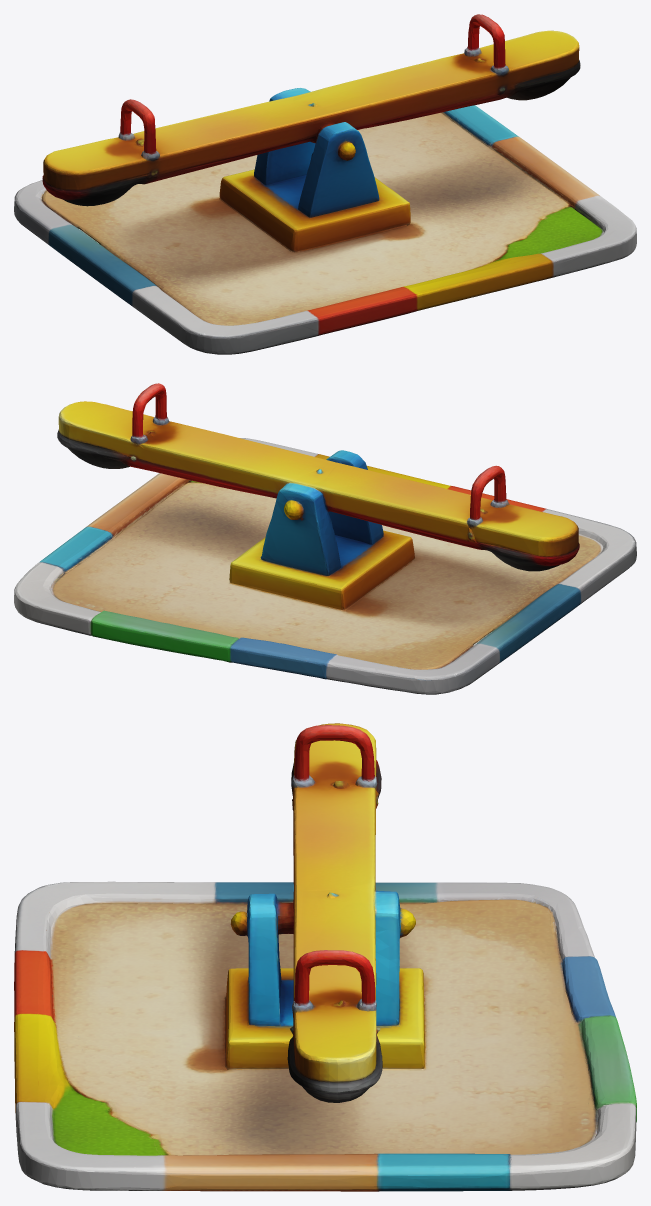
File: seesaw.glb
3 views of the same model, one above another, from view 1: azimuth 30°, elevation 25°; view 2: azimuth 150°, elevation 25°; view 3: azimuth 270°, elevation 25° (orthographic). The views are drawn at different scales.
Parts seen in each view (by area): view 1: world; view 2: world; view 3: world.
Boxes of the visible parts, <box> form: world: <box>14,14,636,354</box>; world: <box>14,383,636,694</box>; world: <box>14,723,636,1191</box>.
Size of the model in its own units: 0.9987 by 0.2898 by 0.7707.
Materials: 1 (1 with a texture image).
